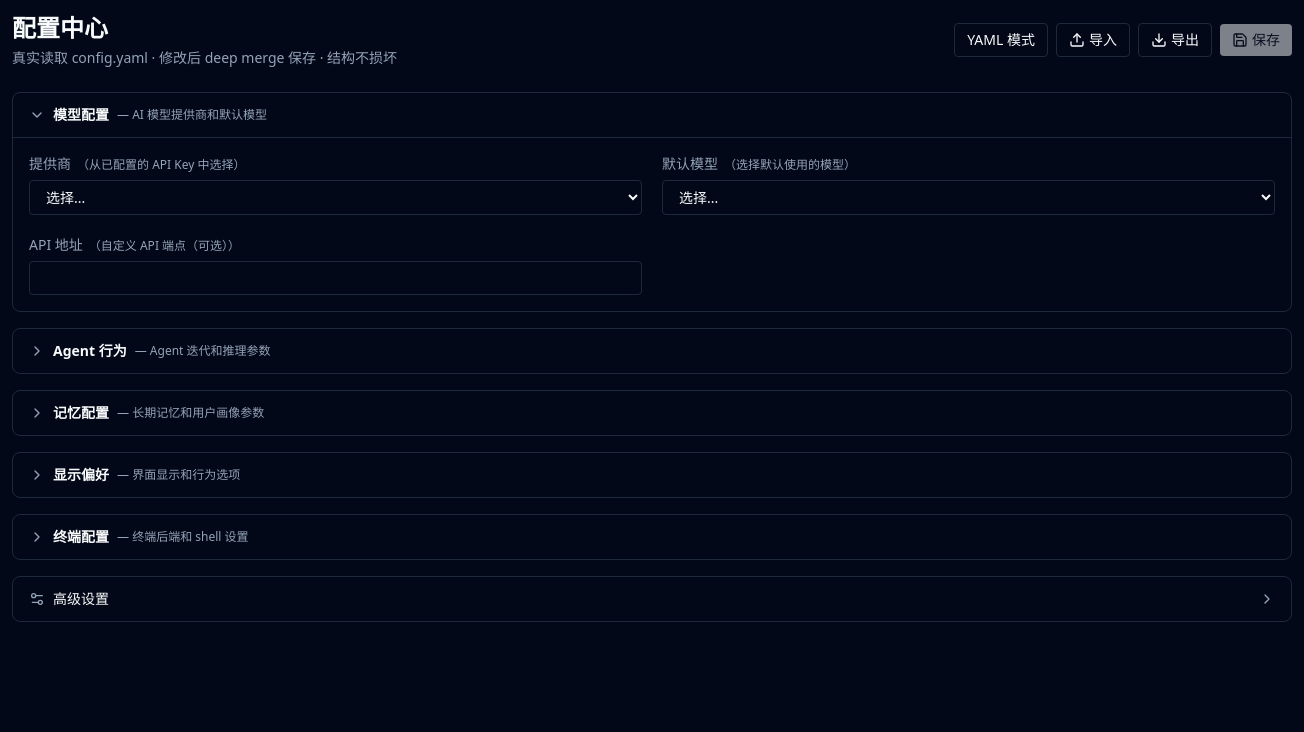
Test case: Config › YAML mode › can toggle to YAML mode
Expected: the heading "配置中心" is shown, [12,11,108,44]
Click the button "YAML 模式".
click(1001, 40)  # box [954,23,1048,57]
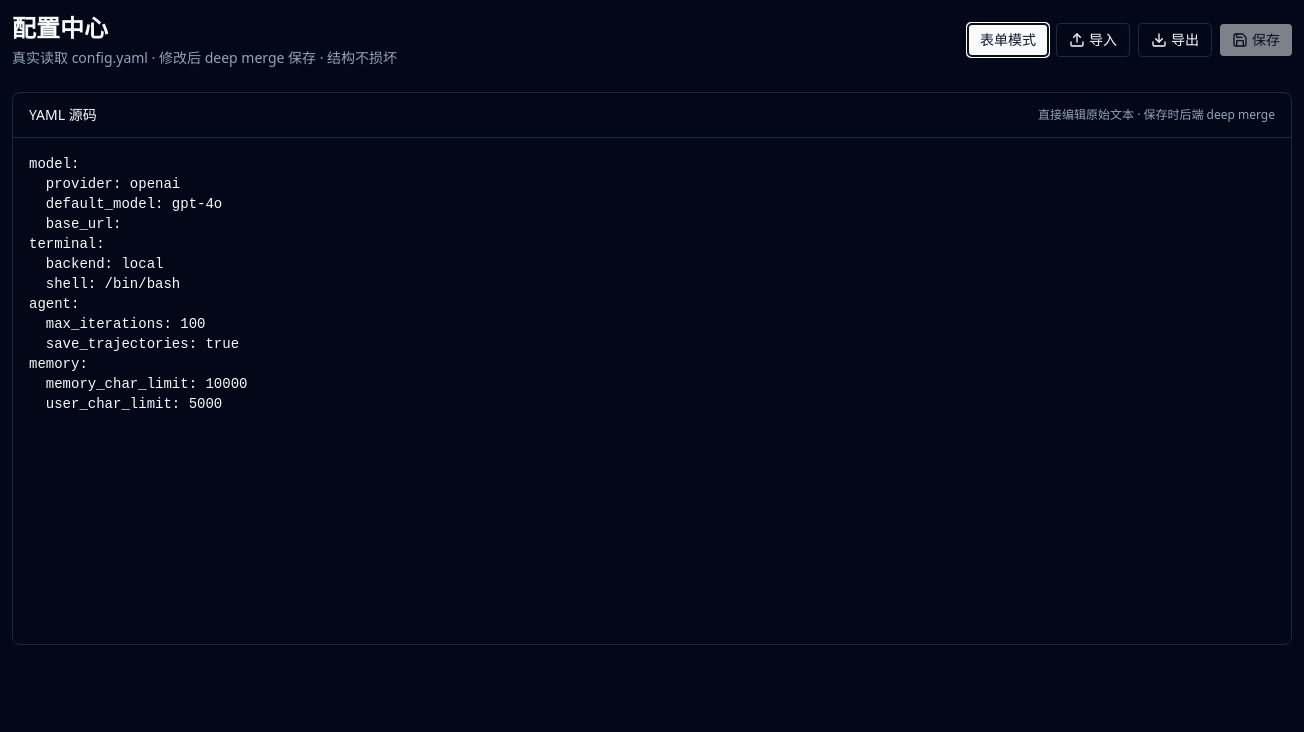
Result: the button "表单模式" is shown at [968,24,1048,56]
